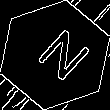N_SW: (22, 23, 88, 87)
